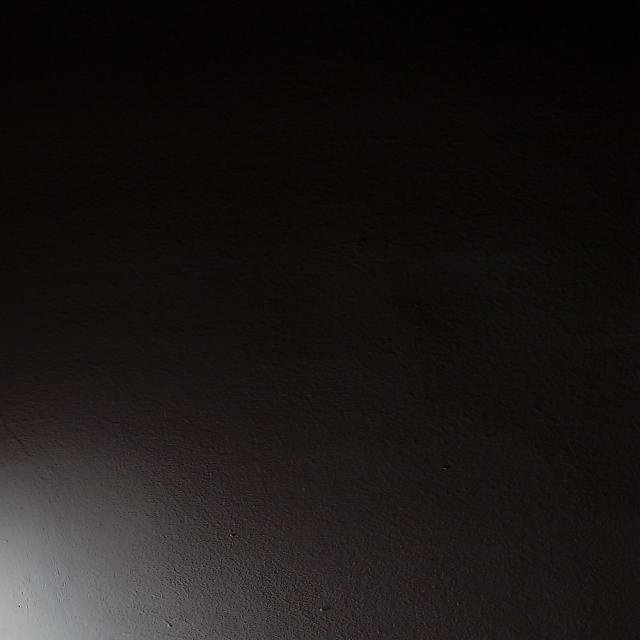fluorescent tube: (0, 481, 115, 640)
